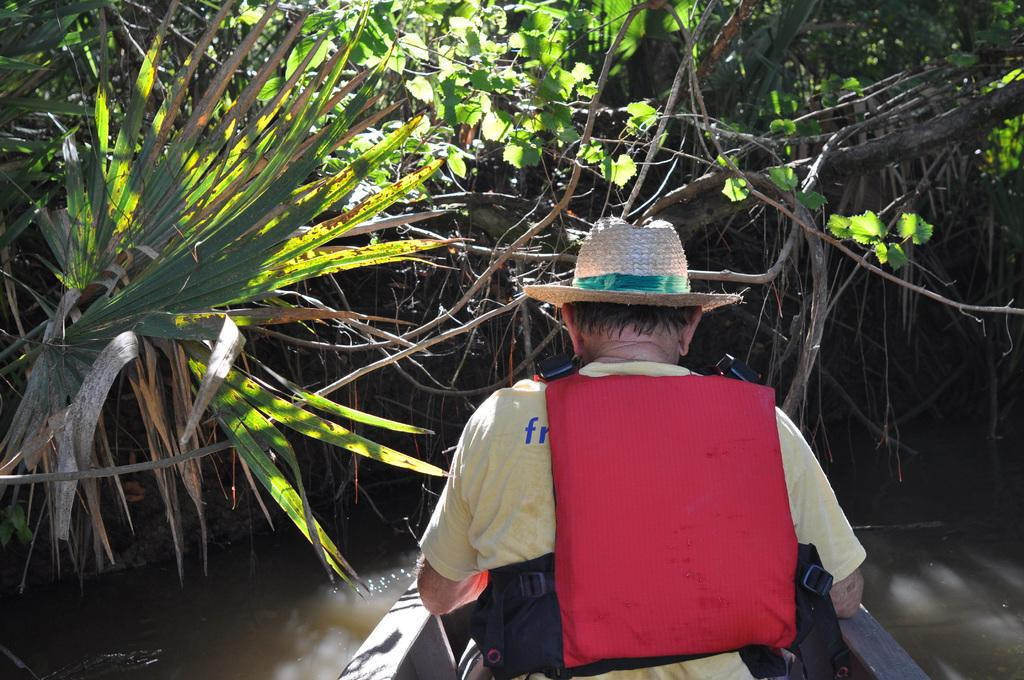Hat: (525, 216, 743, 312)
